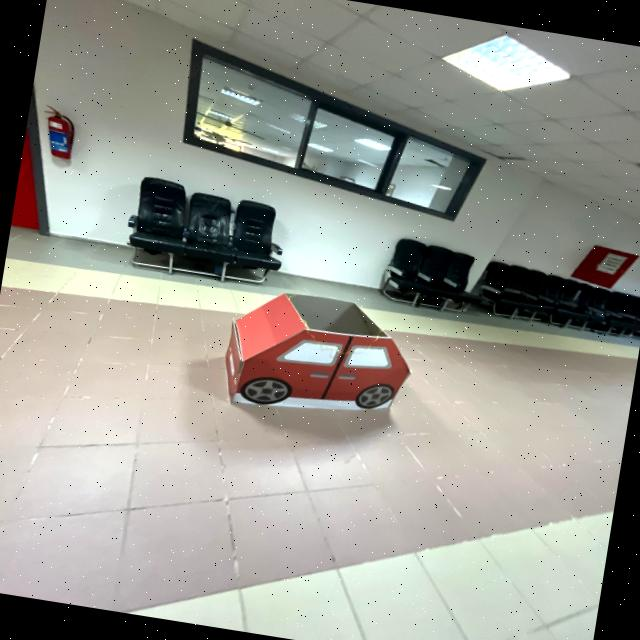red_car: (196, 270, 436, 455)
